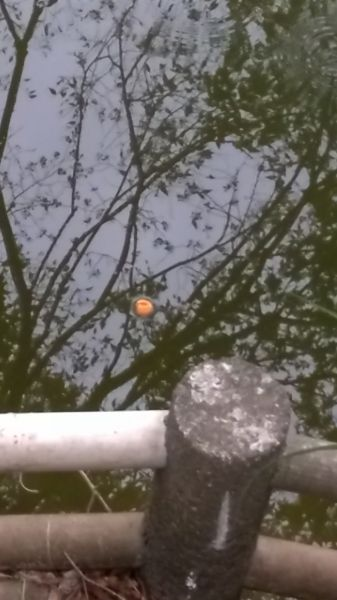eggs: (130, 294, 157, 319)
